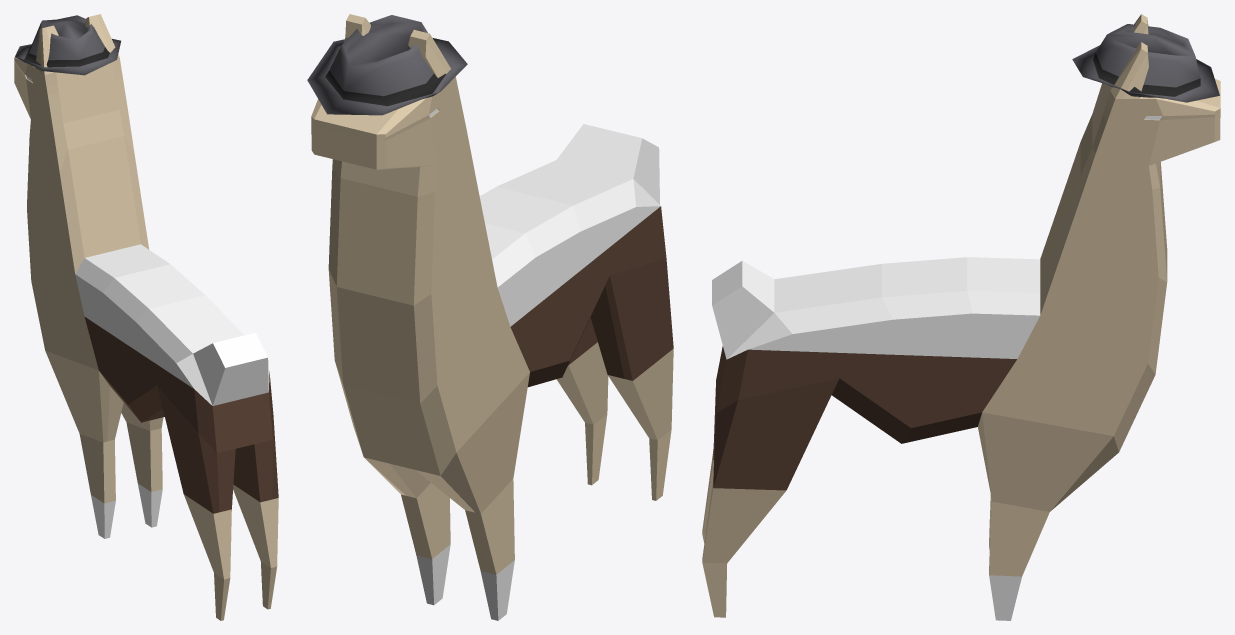
The model's file is JazzLlamaBase.fbx.
3 renders of one model, left to right at view 1: azimuth 30°, elevation 25°; view 2: azimuth 150°, elevation 25°; view 3: azimuth 270°, elevation 25°, orthographic. The views are drawn at different scales.
Parts seen in each view (by area): view 1: Llama-Body; view 2: Llama-Body; view 3: Llama-Body.
Part boxes in pixels (x1,y1,x2,y2): Llama-Body: [14, 14, 278, 620]; Llama-Body: [307, 14, 673, 620]; Llama-Body: [702, 14, 1220, 620].
Size of the model in its own units: 126 by 611 by 500.
